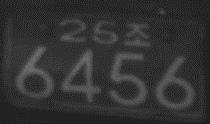2: (59, 16, 88, 44)
4: (61, 49, 100, 103)
5: (108, 51, 147, 108), (91, 18, 118, 45)
6: (154, 55, 197, 111), (14, 45, 56, 99)
조: (122, 21, 151, 47)
